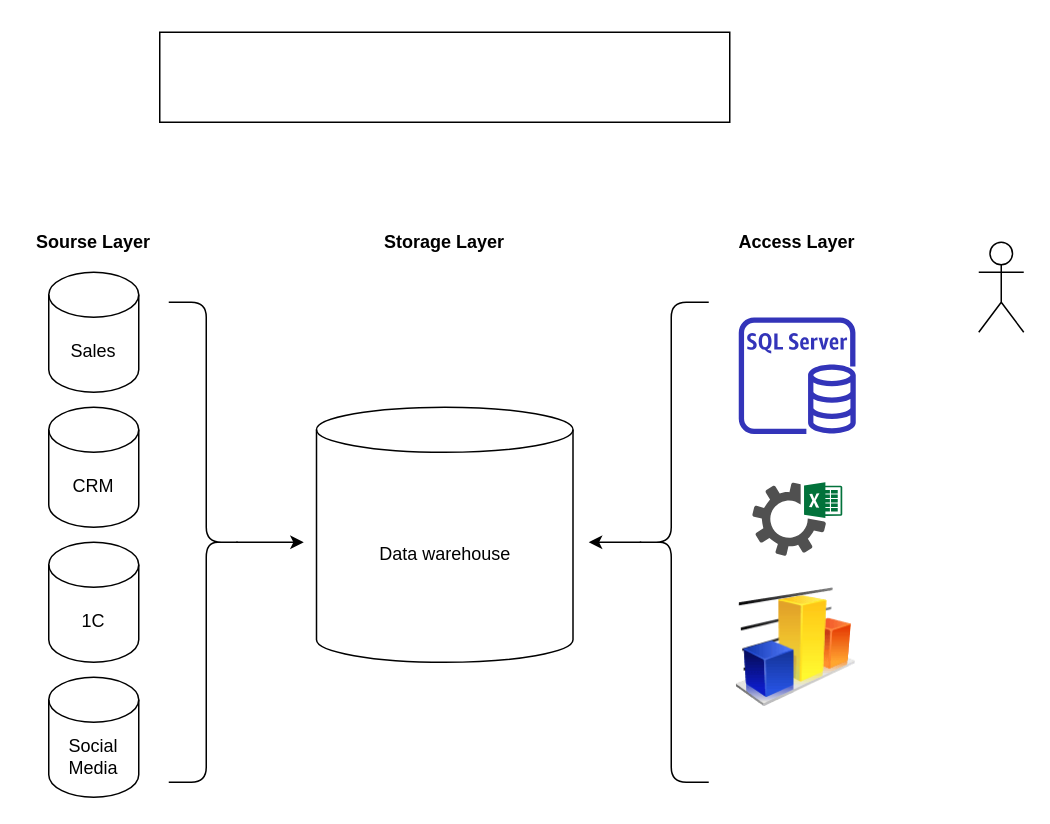
Image size: 1050x824. Some labels were removed from this diagram. The shapes that lost their labels are listed below. From the top down, each one's box as (x1, y1, x2, y2) in pixels, then its label:
(158, 31, 730, 122): Архитектура аналитического решения КТ
(977, 241, 1024, 332): Actor
(735, 586, 855, 706): Business Intelligence
